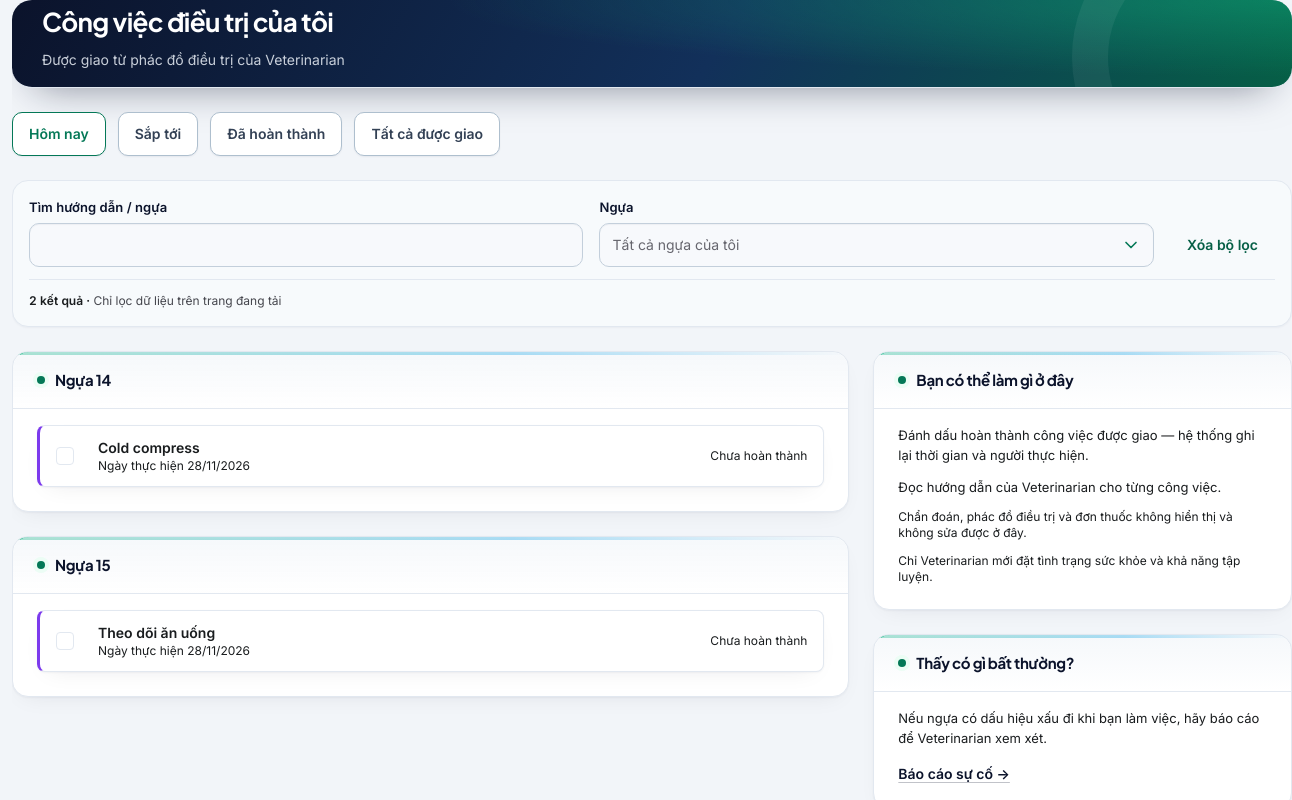
Test: searches only assigned instructions and combines search with horse and status filters
Expected: the text "Cold compress" is shown, [98,440,200,456]
Type "ăn uống" into the search field labelled "Tìm hướng dẫn / ngựa" at (306, 246), box [29,224,584,268]
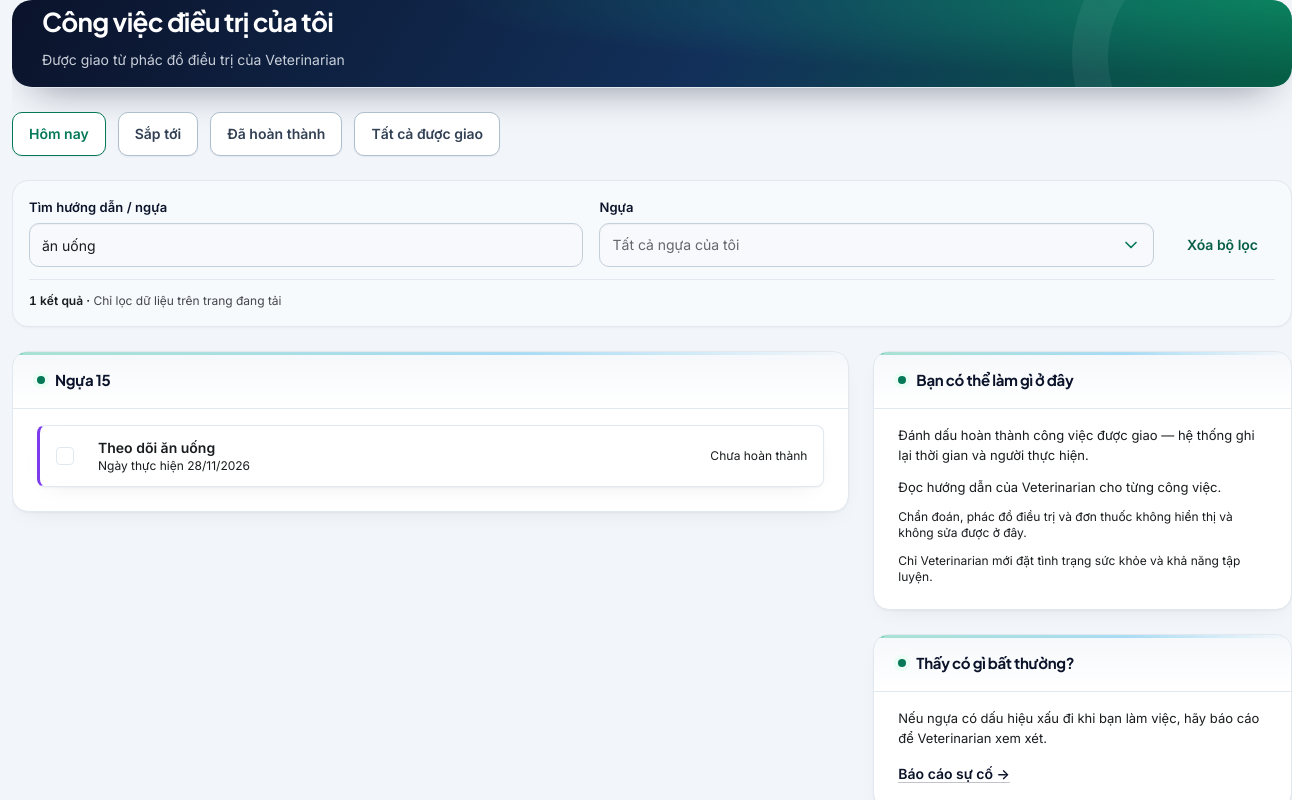
Expected: the text "Theo dõi ăn uống" is shown, [98,440,215,456]
Now the text "Cold compress" is gone
Select "Ngựa 14" in the dropdown labelled "Ngựa" at (877, 246), box [600,224,1153,266]
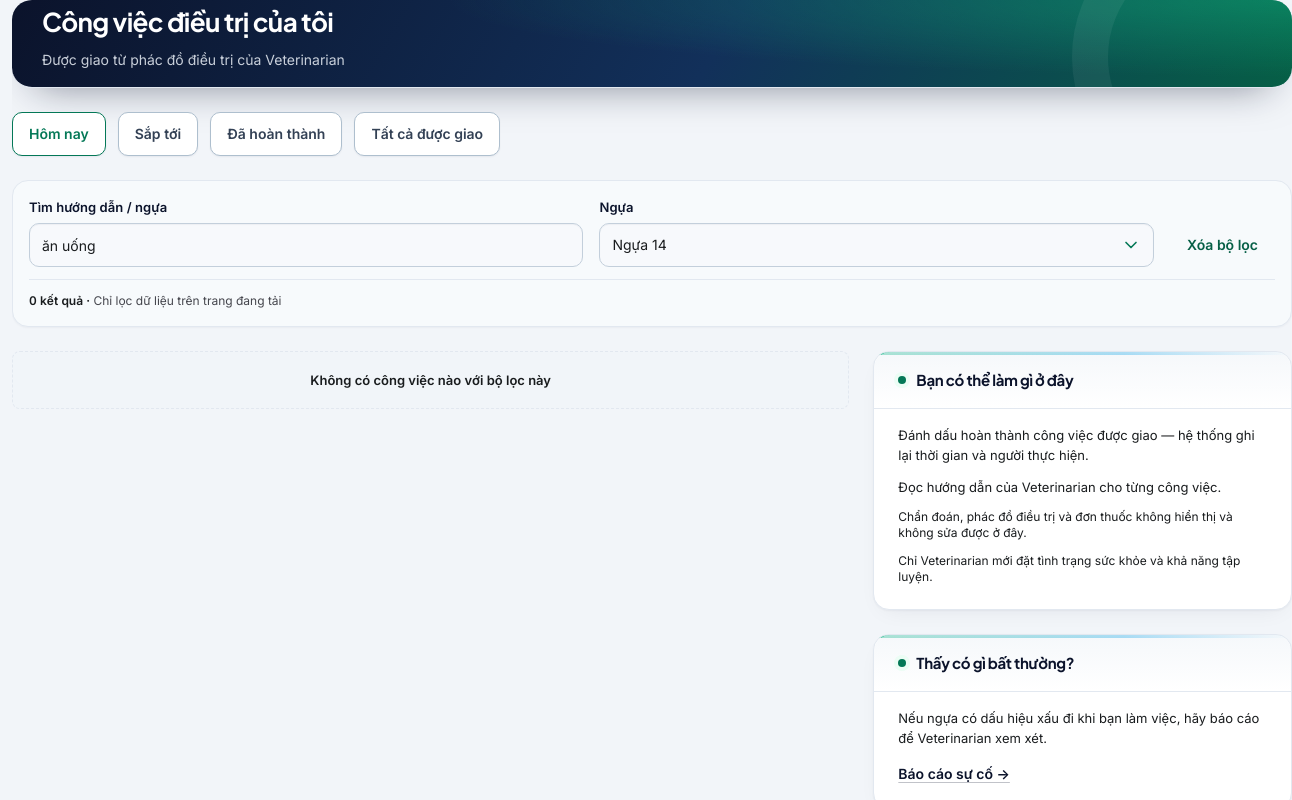
Now the text "Không có công việc nào với bộ lọc này" is shown, box [310,372,551,388]
Click the button "Xóa bộ lọc" at (1222, 246), box [1170,224,1275,268]
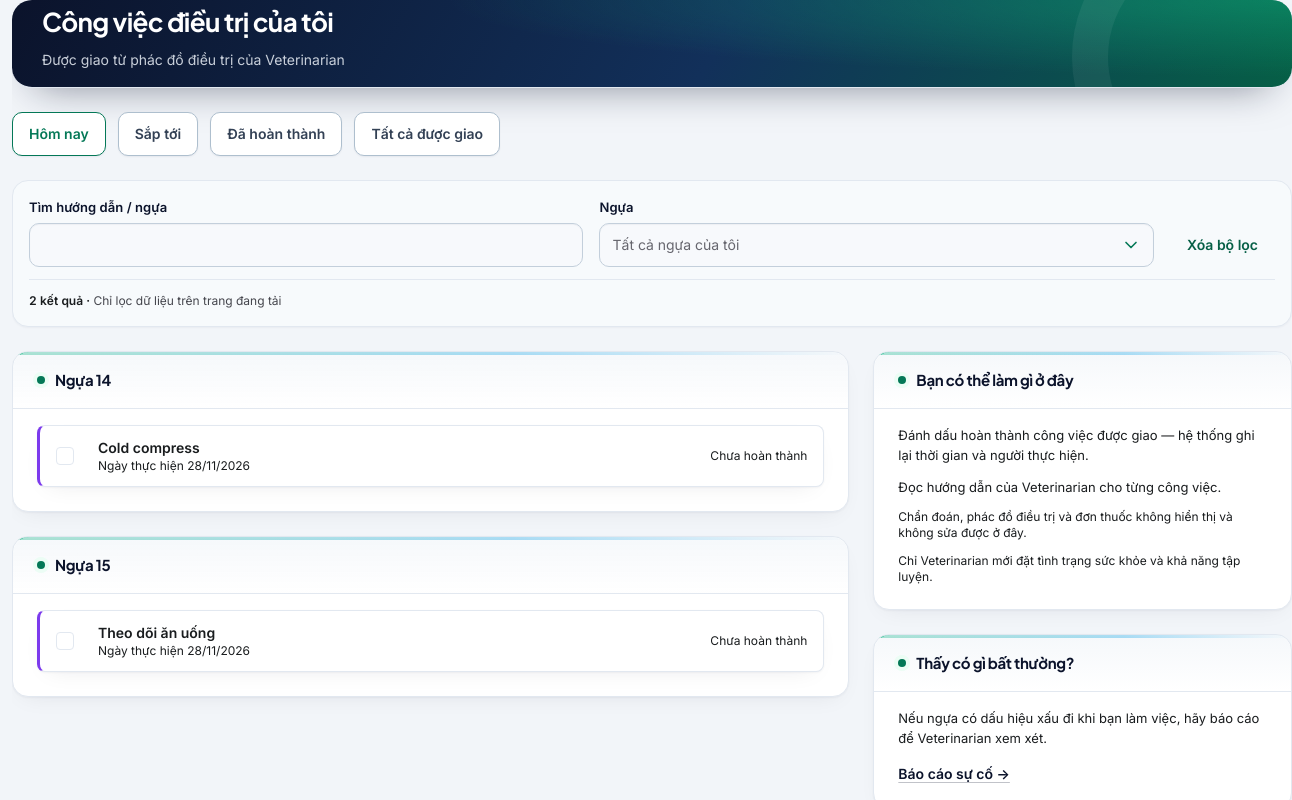
Now the search field labelled "Tìm hướng dẫn / ngựa" is empty, box [29,224,584,268]
Now the text "Cold compress" is shown, box [98,440,200,456]
